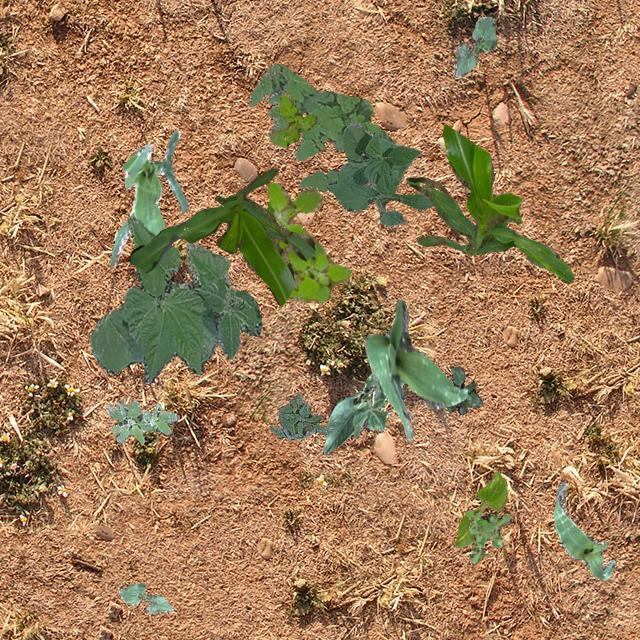crop: (88, 215, 260, 382), (406, 124, 572, 282), (128, 166, 314, 304), (362, 298, 466, 442), (327, 120, 432, 224), (108, 130, 186, 268), (552, 480, 614, 580), (322, 371, 388, 454), (454, 471, 506, 546), (452, 15, 496, 76), (118, 582, 172, 612)
weed: (248, 62, 410, 190), (262, 182, 350, 302), (104, 398, 178, 442), (268, 391, 332, 438), (464, 508, 512, 562), (270, 91, 316, 146), (446, 364, 482, 414)
